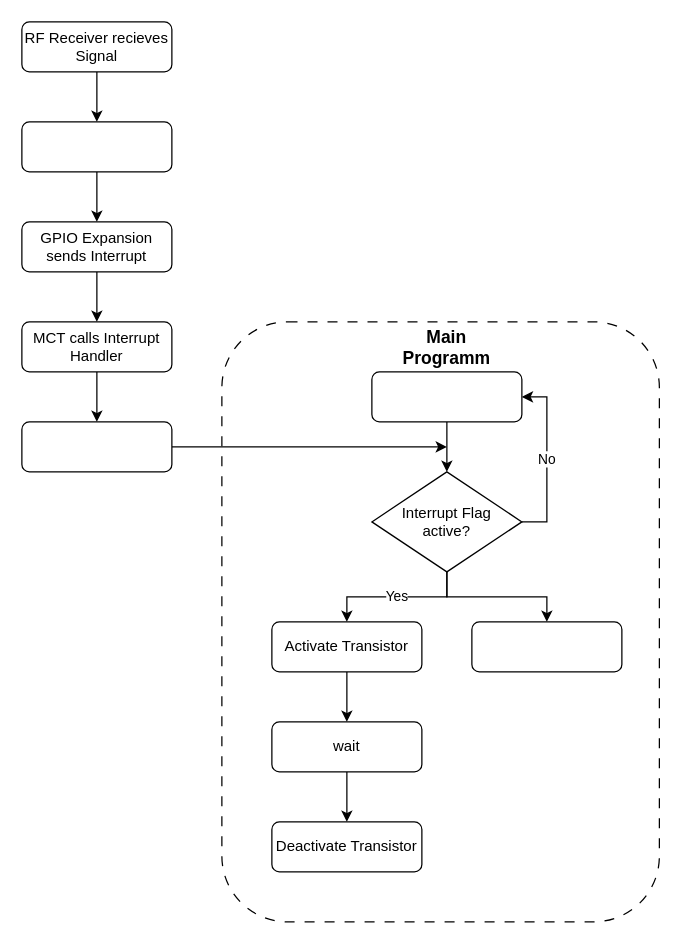
The diagram is 681 pixels wide and 944 high, and some of its shapes have lost their labels. The shapes that lost their labels are listed below. From the top down, each one's box as (x1, y1, x2, y2) in pixels, then its label:
(21, 121, 172, 172): RF Recievers sets Channel to HIGH
(371, 371, 522, 422): Main Polling for Interrupt
(21, 421, 172, 472): Interrupt handler sets Flag
(471, 621, 622, 672): Send CAN-Message
